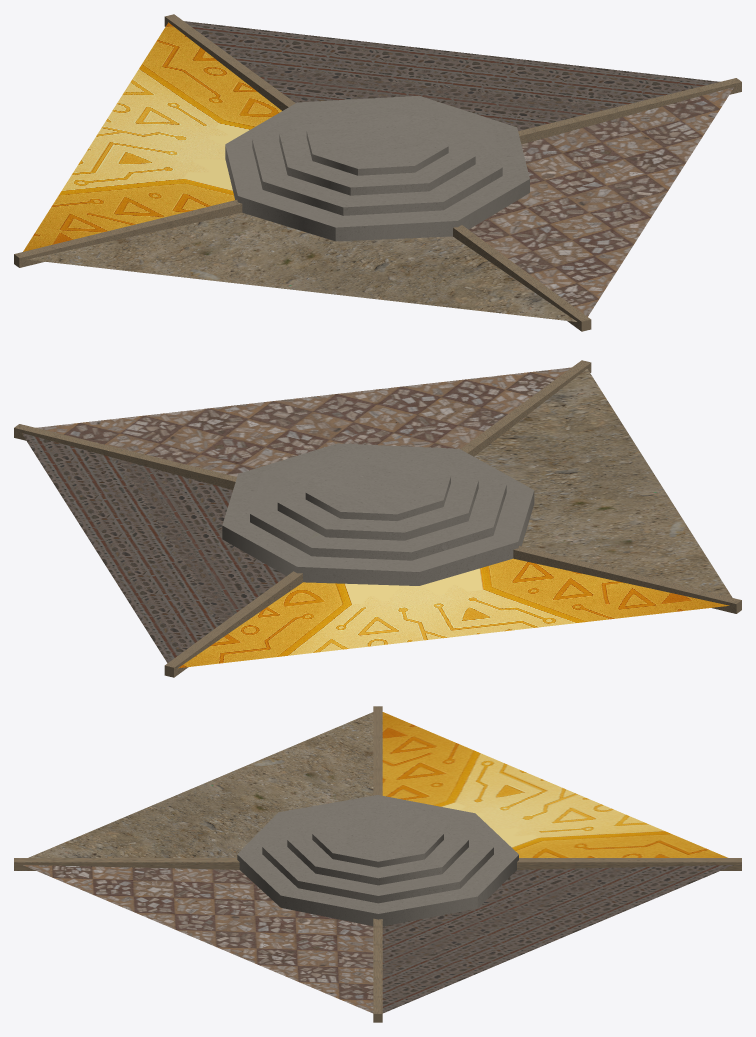
File: _____________________________mid_export.fbx
3 views of the same model, one above another, from view 1: azimuth 30°, elevation 25°; view 2: azimuth 150°, elevation 25°; view 3: azimuth 270°, elevation 25° (orthographic). The views are drawn at different scales.
Visible parts, largest first — view 1: center_sta, mid_zone_2, mid_zone_4, mid_zone_3, mid_zone_1, mid_cabel; view 2: center_sta, mid_zone_1, mid_zone_4, mid_zone_3, mid_zone_2, mid_cabel; view 3: center_sta, mid_zone_2, mid_zone_1, mid_zone_4, mid_zone_3, mid_cabel.
Boxes of the visible parts, x1=… form: center_sta: x1=225, y1=95, x2=529, y2=241; mid_zone_2: x1=469, y1=87, x2=734, y2=316; mid_zone_4: x1=23, y1=22, x2=281, y2=251; mid_zone_3: x1=27, y1=212, x2=576, y2=321; mid_zone_1: x1=184, y1=21, x2=719, y2=130; mid_cabel: x1=14, y1=14, x2=741, y2=331; center_sta: x1=222, y1=443, x2=534, y2=585; mid_zone_1: x1=21, y1=433, x2=286, y2=663; mid_zone_4: x1=178, y1=558, x2=729, y2=668; mid_zone_3: x1=474, y1=368, x2=732, y2=597; mid_zone_2: x1=36, y1=367, x2=571, y2=476; mid_cabel: x1=14, y1=360, x2=741, y2=677; center_sta: x1=237, y1=795, x2=518, y2=926; mid_zone_2: x1=23, y1=865, x2=373, y2=1013; mid_zone_1: x1=382, y1=865, x2=733, y2=1013; mid_zone_4: x1=382, y1=712, x2=727, y2=857; mid_zone_3: x1=28, y1=712, x2=373, y2=857; mid_cabel: x1=14, y1=706, x2=741, y2=1022.
Bounding box in the file's own units: 2418 × 127 × 2418.
Materials: 6 (6 with a texture image).
